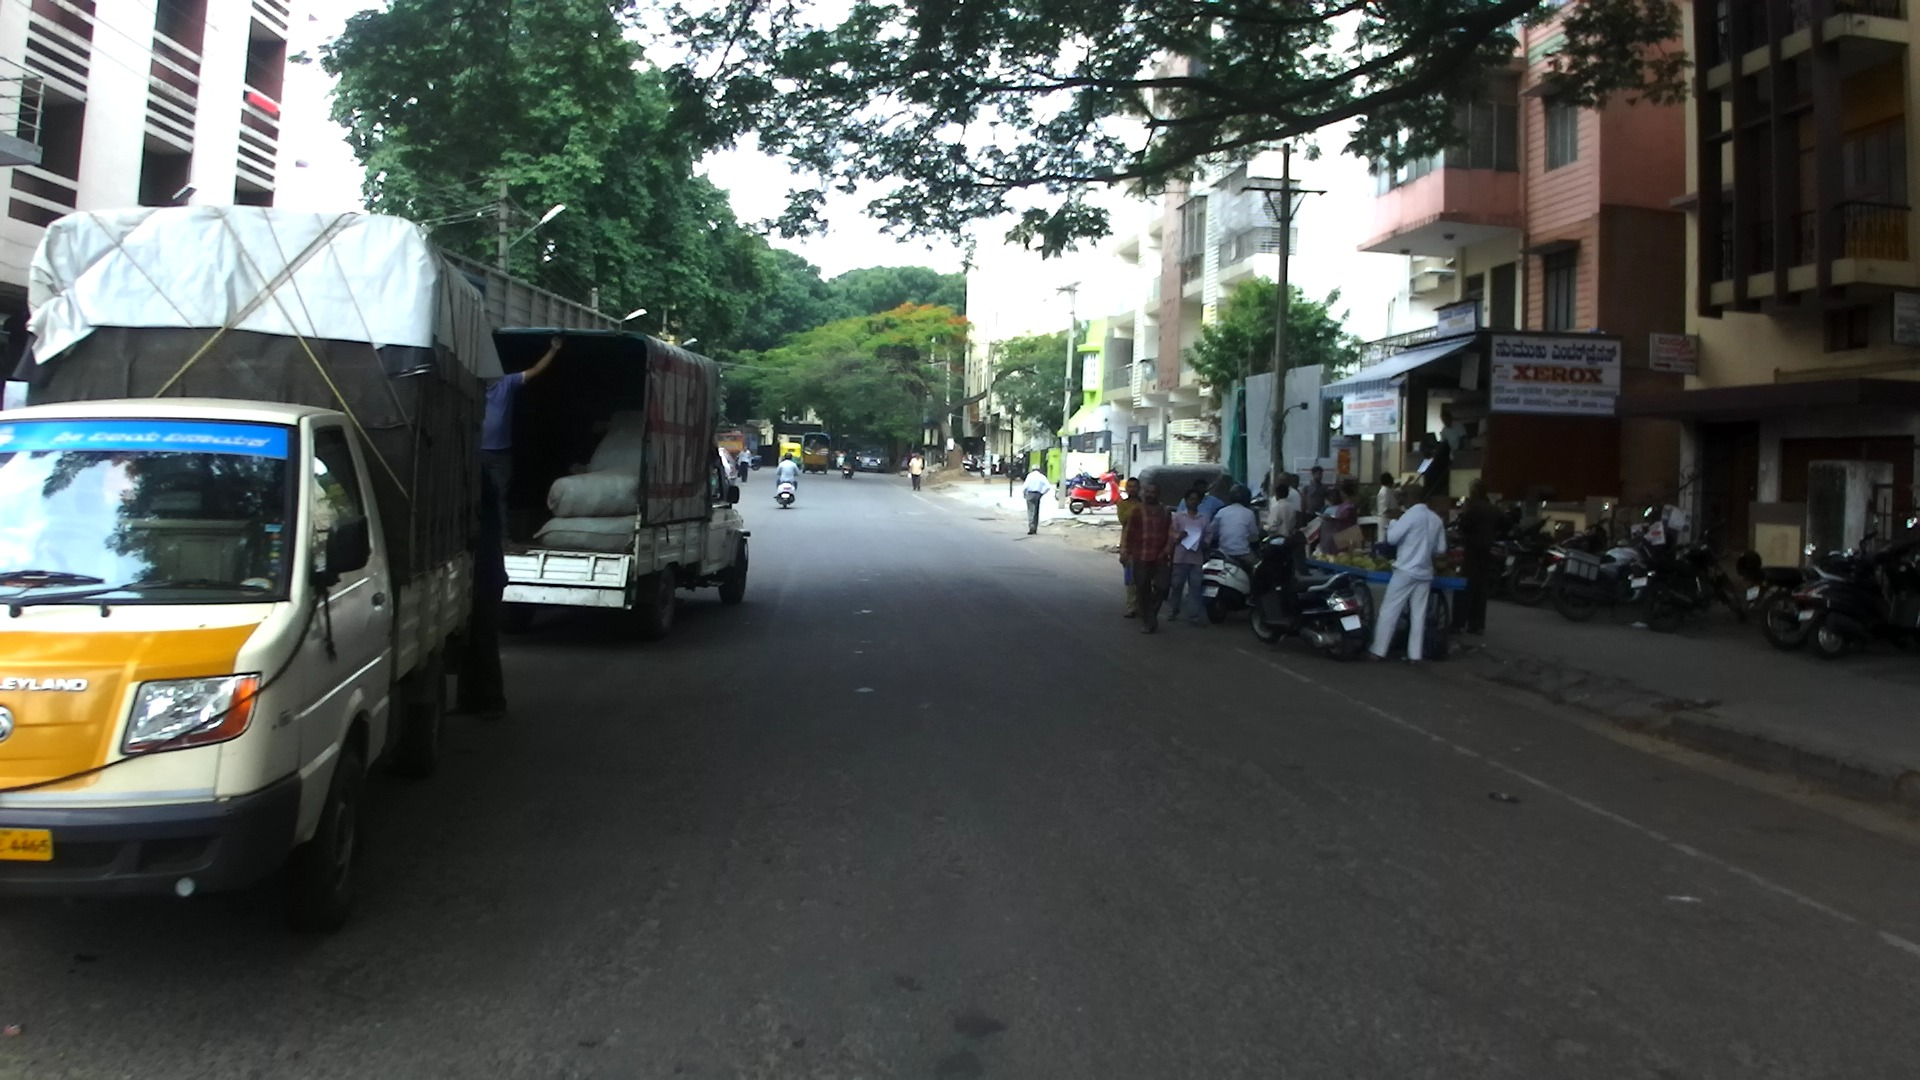autorickshaw: (777, 441, 804, 467)
car: (715, 446, 741, 489), (853, 449, 886, 473)
motorcycle: (1737, 515, 1885, 650), (1788, 512, 1919, 656), (1245, 533, 1374, 661), (1623, 519, 1752, 633), (1543, 506, 1660, 621), (1506, 503, 1616, 608), (1204, 519, 1283, 624), (1484, 496, 1551, 594), (1069, 470, 1135, 514), (1054, 462, 1090, 502), (1446, 495, 1467, 552), (1082, 467, 1124, 489), (775, 470, 799, 507), (1003, 460, 1031, 481), (989, 457, 1010, 477), (748, 450, 766, 471), (961, 455, 983, 471), (840, 461, 857, 478), (835, 452, 845, 469)
person: (1368, 484, 1447, 665), (1120, 483, 1174, 635), (1456, 478, 1499, 634), (1168, 489, 1214, 624), (1118, 477, 1145, 620), (1332, 482, 1366, 559), (1178, 478, 1225, 525), (1261, 485, 1299, 543), (1375, 472, 1403, 550), (1022, 464, 1050, 537), (1299, 465, 1332, 524), (1271, 472, 1302, 530), (1437, 406, 1465, 463), (1251, 477, 1275, 535), (1315, 489, 1344, 519), (909, 449, 923, 491), (739, 444, 751, 485), (1290, 474, 1305, 503)
rider: (475, 333, 564, 558), (455, 472, 507, 725), (1206, 484, 1262, 569), (777, 451, 799, 491), (844, 445, 858, 465), (835, 439, 846, 458)
truck: (1, 211, 483, 927), (477, 324, 752, 641), (428, 249, 651, 350), (718, 423, 759, 463), (800, 433, 833, 474)
vehicle fallback: (1305, 549, 1467, 660), (1136, 460, 1243, 552), (778, 433, 807, 470)
